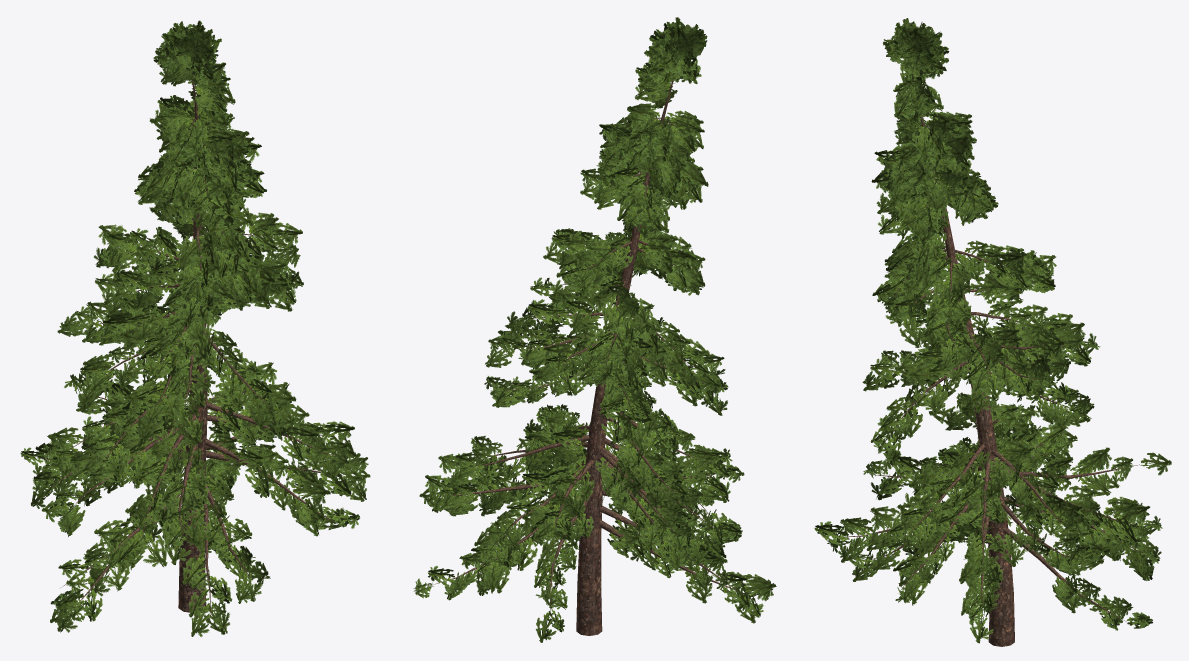
File: pine-02.glb
The picture shows the model from 3 angles, left to right: view 1: azimuth 30°, elevation 25°; view 2: azimuth 150°, elevation 25°; view 3: azimuth 270°, elevation 25°; orthographic projection. The views are drawn at different scales.
Visible parts, largest first — view 1: Overgrowth_Pine_2; view 2: Overgrowth_Pine_2; view 3: Overgrowth_Pine_2.
Part boxes in pixels (x1,y1,x2,y2): Overgrowth_Pine_2: (20,20,370,636); Overgrowth_Pine_2: (413,17,776,642); Overgrowth_Pine_2: (814,18,1171,646).
Size of the model in its own units: 8.03 by 14 by 7.72.
2 materials, 2 textured.
